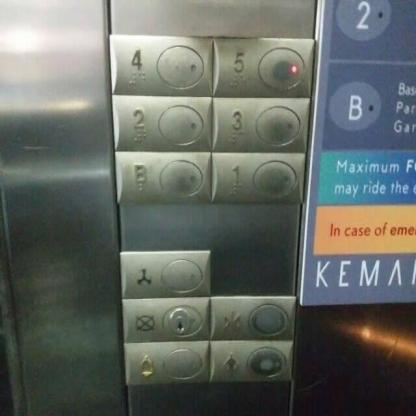1: (210, 148, 306, 206)
2: (108, 91, 214, 154), (334, 0, 393, 45)
3: (211, 93, 312, 155)
4: (107, 31, 215, 98)
5: (210, 32, 316, 101)
B: (112, 146, 214, 208), (326, 78, 382, 133)
alarm: (120, 338, 211, 387)
close: (207, 292, 299, 342)
fan: (116, 247, 212, 299)
open: (206, 338, 294, 386)
stop: (118, 294, 212, 344)
